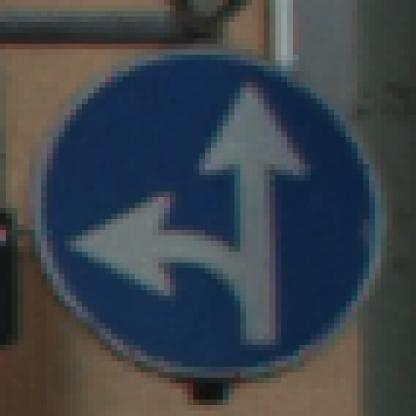Straight or Left: (36, 34, 382, 379)
